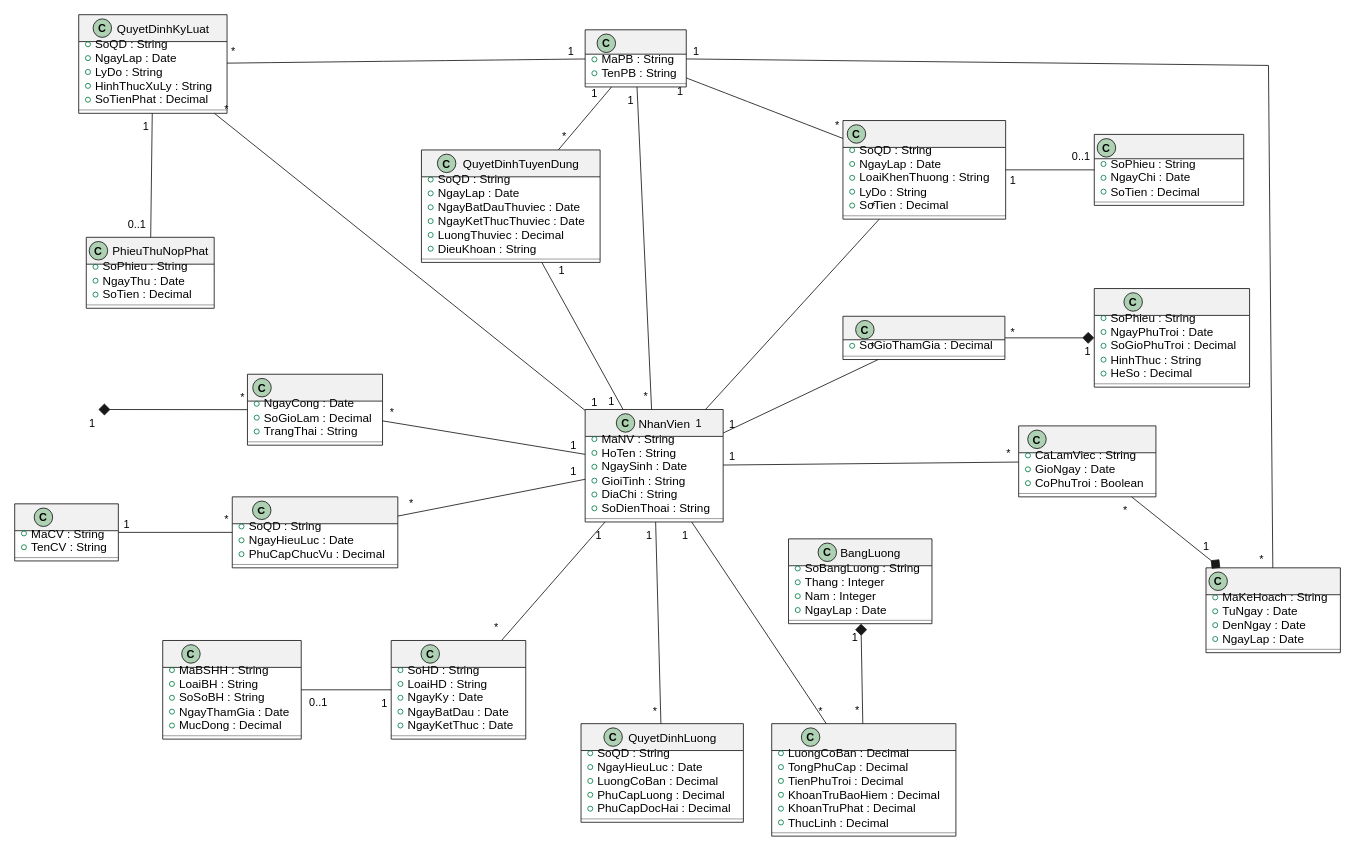
The diagram is 1356 pixels wide and 851 high, and some of its shapes have lost their labels. The box of each missing label's shape, as (x1, y1, x2, y2) in pixels:
ChiTietBangLuong: (771, 723, 956, 836)
ChiTietChamCong: (247, 373, 383, 445)
ChiTietPhanCong: (1018, 425, 1156, 497)
ChiTietPhieuPhuTroi: (842, 315, 1005, 360)
ChucVu: (14, 503, 118, 561)
HopDong: (390, 640, 526, 739)
HoSoBaoHiem: (162, 640, 301, 739)
KeHoachPhanCong: (1205, 567, 1340, 653)
PhieuChiKhenThuong: (1093, 134, 1244, 205)
PhieuPhuTroi: (1093, 288, 1250, 387)
PhongBan: (584, 29, 686, 87)
QuyetDinhChucVu: (231, 496, 398, 568)
QuyetDinhKhenThuong: (842, 120, 1006, 219)
